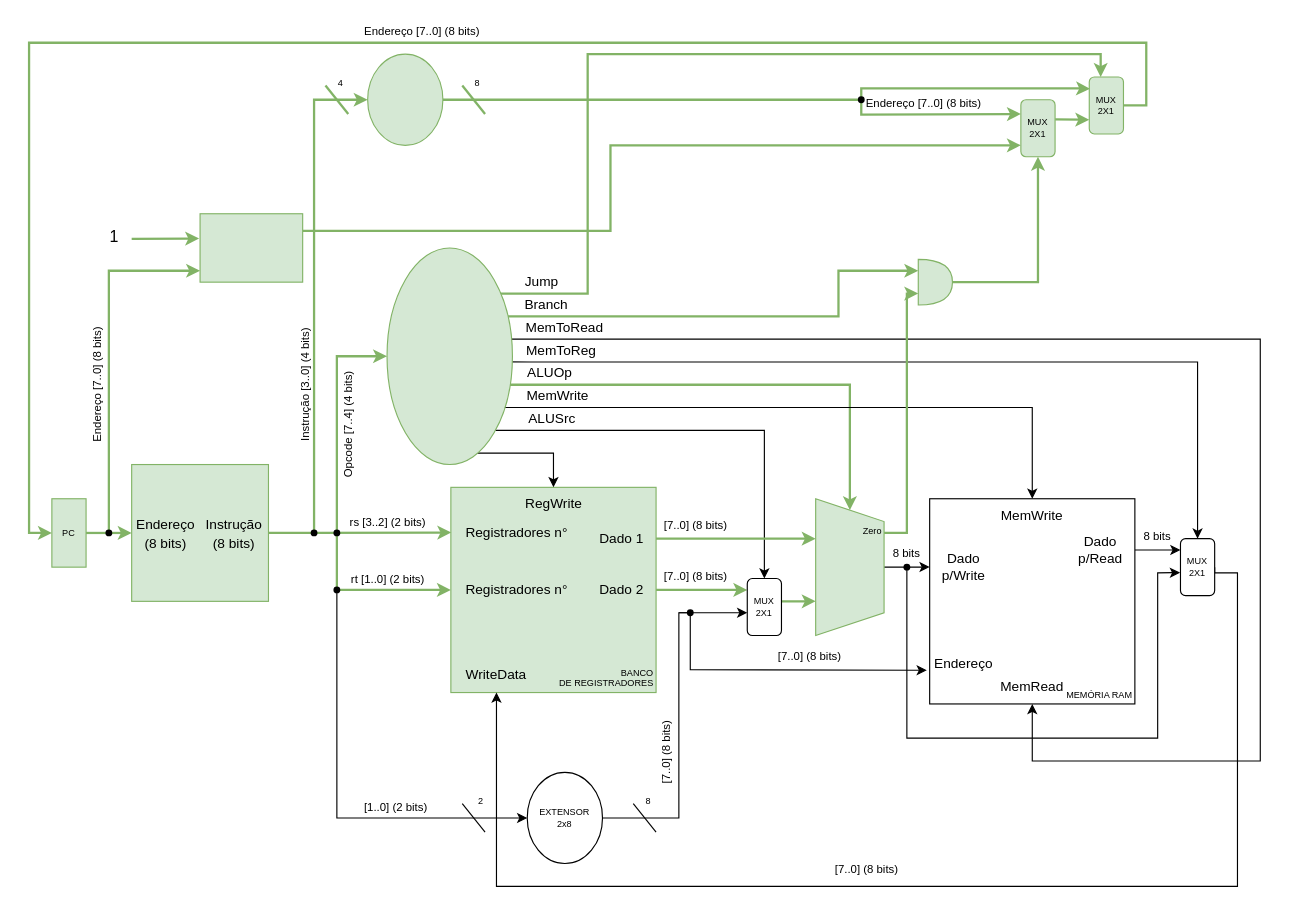
Image size: 1289x917. Some labels were removed from this diagram. Each missing label, with the box of its shape:
ALU: (815, 498, 884, 636)
CONTADOR SÍNCRONO: (199, 213, 303, 282)
EXTENSOR 4x8: (367, 53, 443, 145)
MEMÓRIA ROM: (131, 463, 268, 601)
UNIDADE DE CONTROLE: (386, 247, 512, 465)
